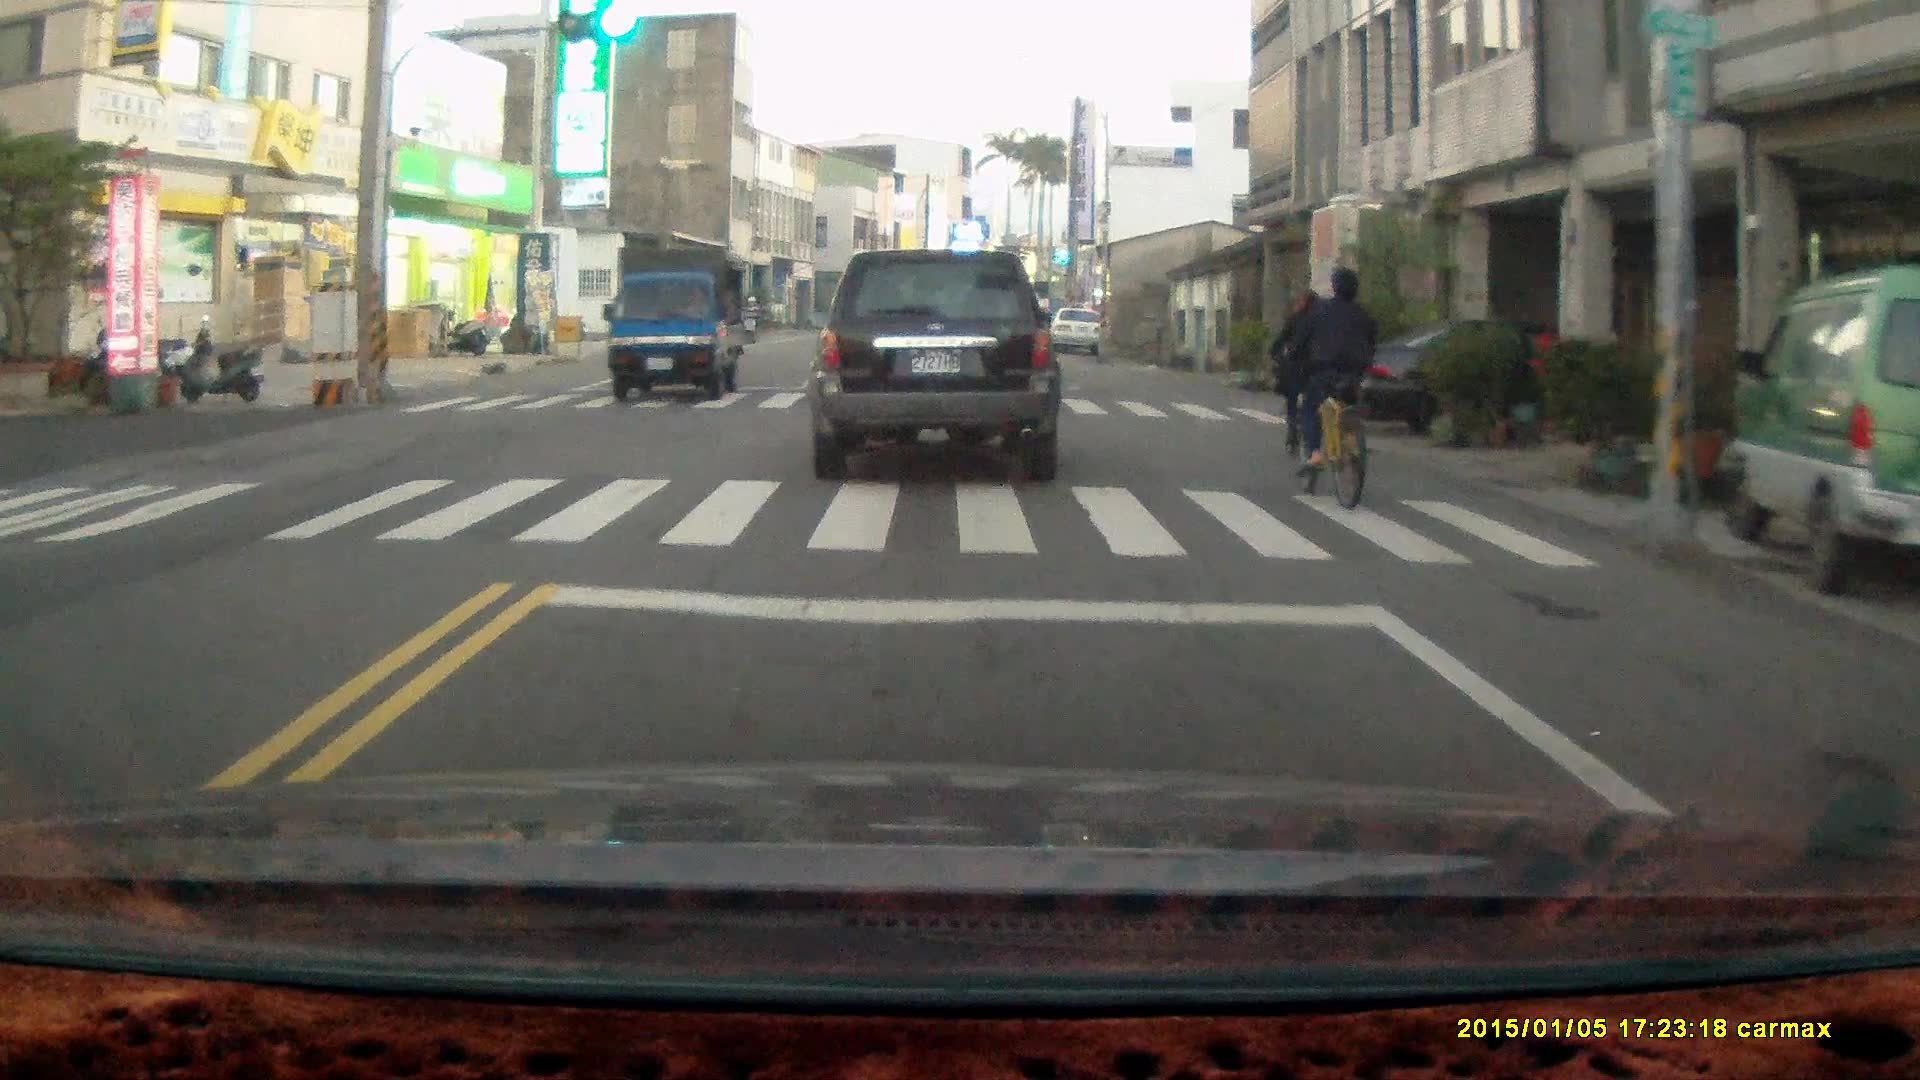rider: (1282, 263, 1380, 505), (1274, 274, 1339, 452), (740, 293, 763, 344)
vehicle: (806, 247, 1062, 481), (1732, 277, 1920, 595), (1359, 318, 1687, 449), (606, 245, 752, 405), (1051, 307, 1112, 357)
